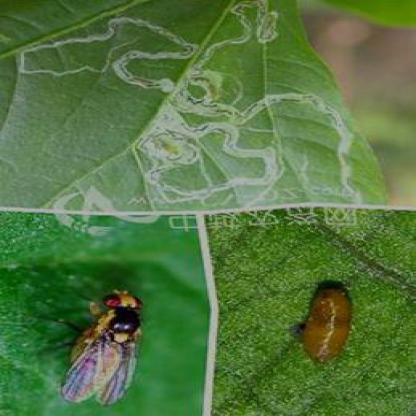whorl-maggot: (288, 272, 360, 369)
